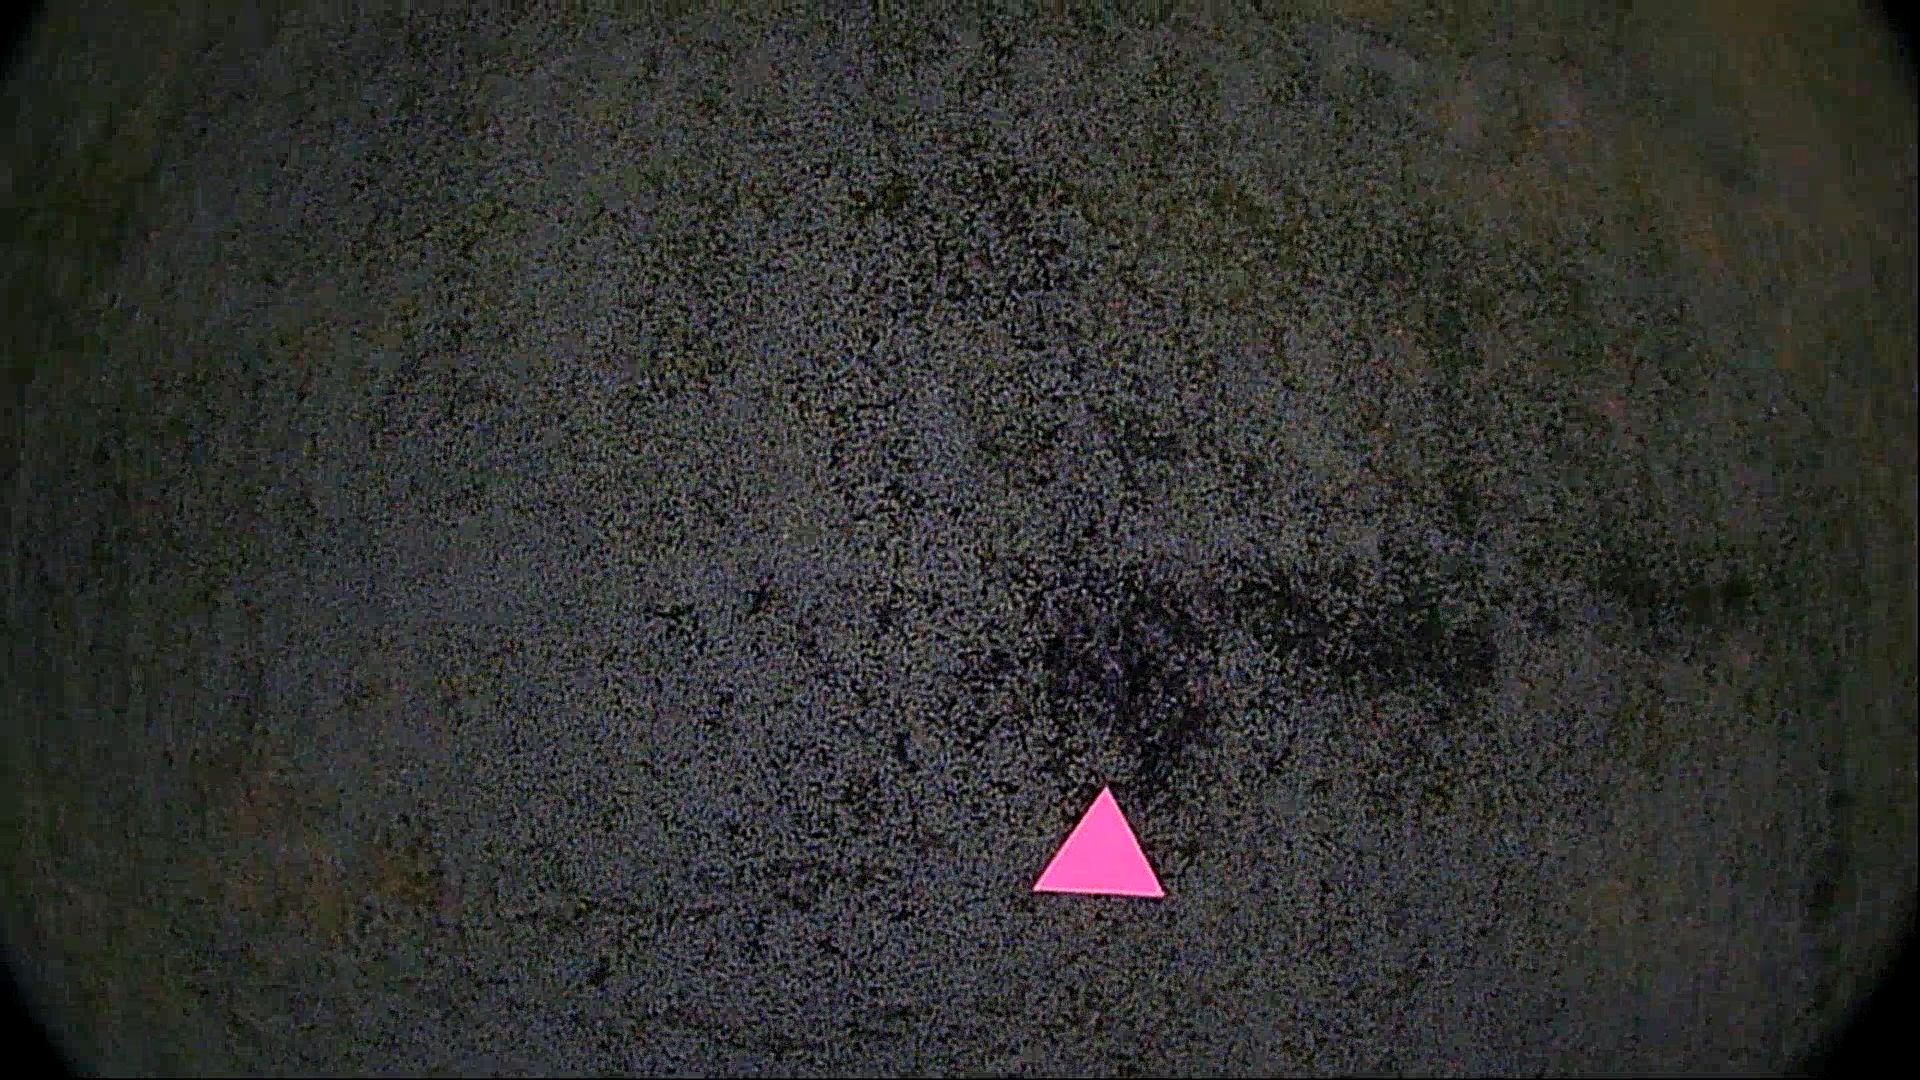triangle: (1019, 779, 1178, 911)
